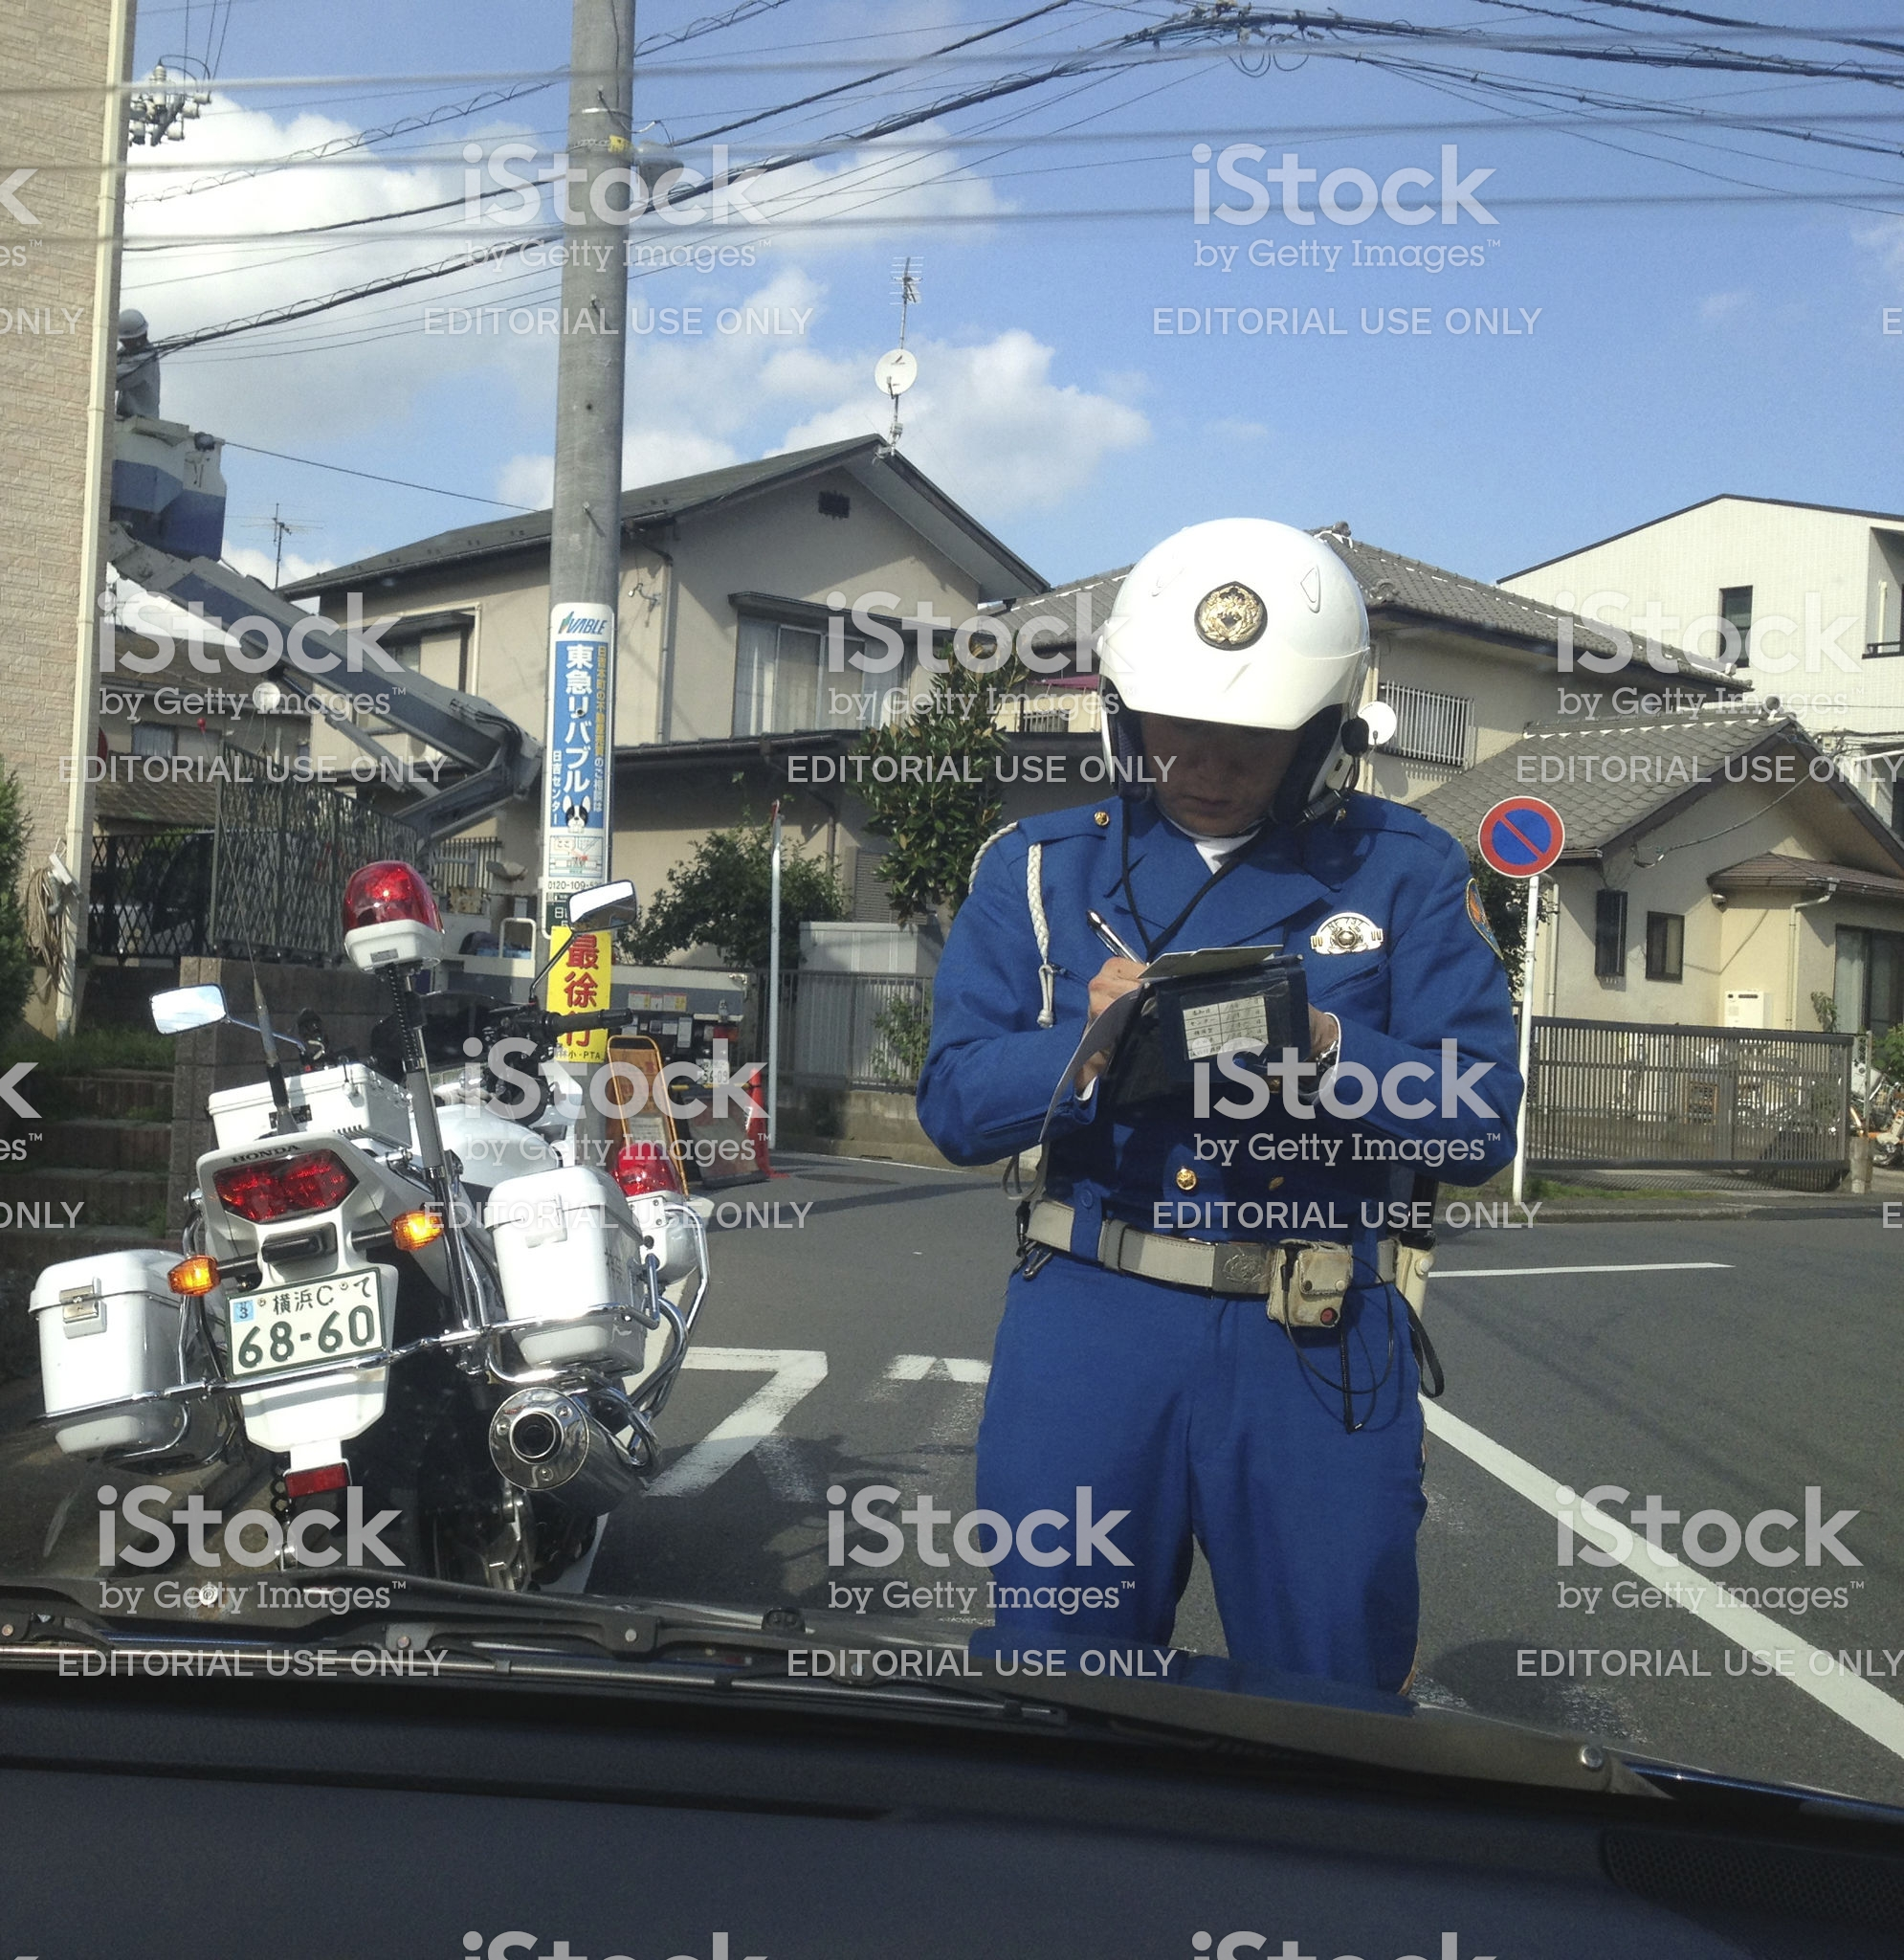helmet: (1083, 497, 1379, 730)
